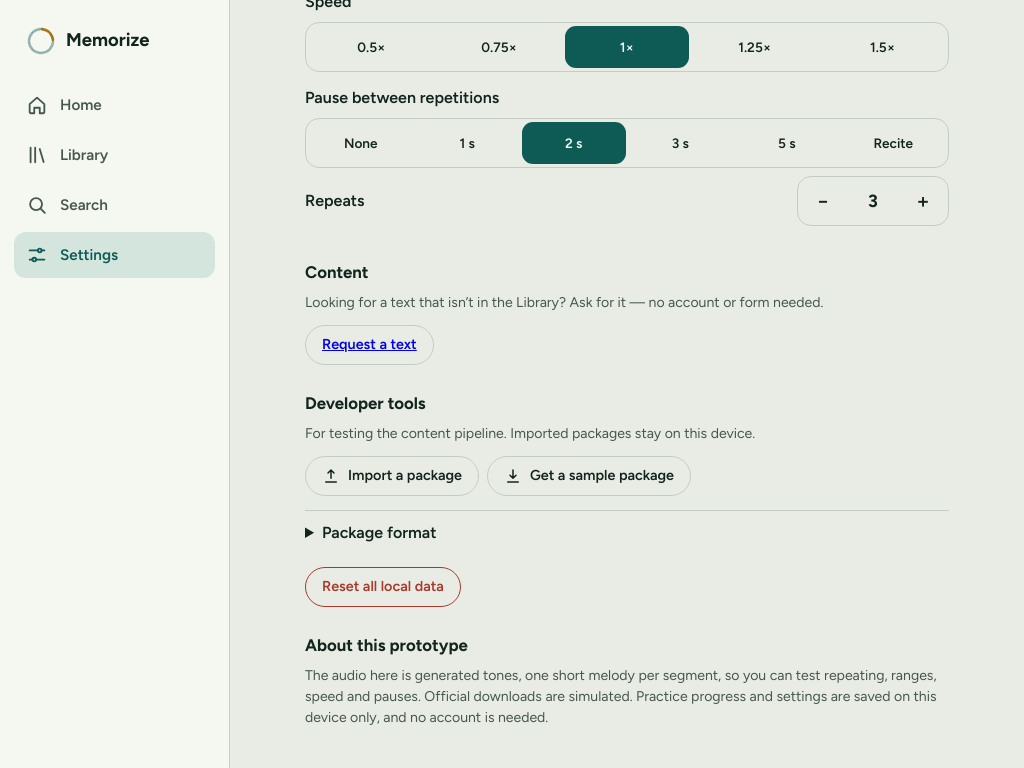
Test: Settings › resets everything after confirmation, and only then
(page scrolled)
Step 1. Click the button "Reset all local data" → (383, 587), box [305, 567, 461, 607]
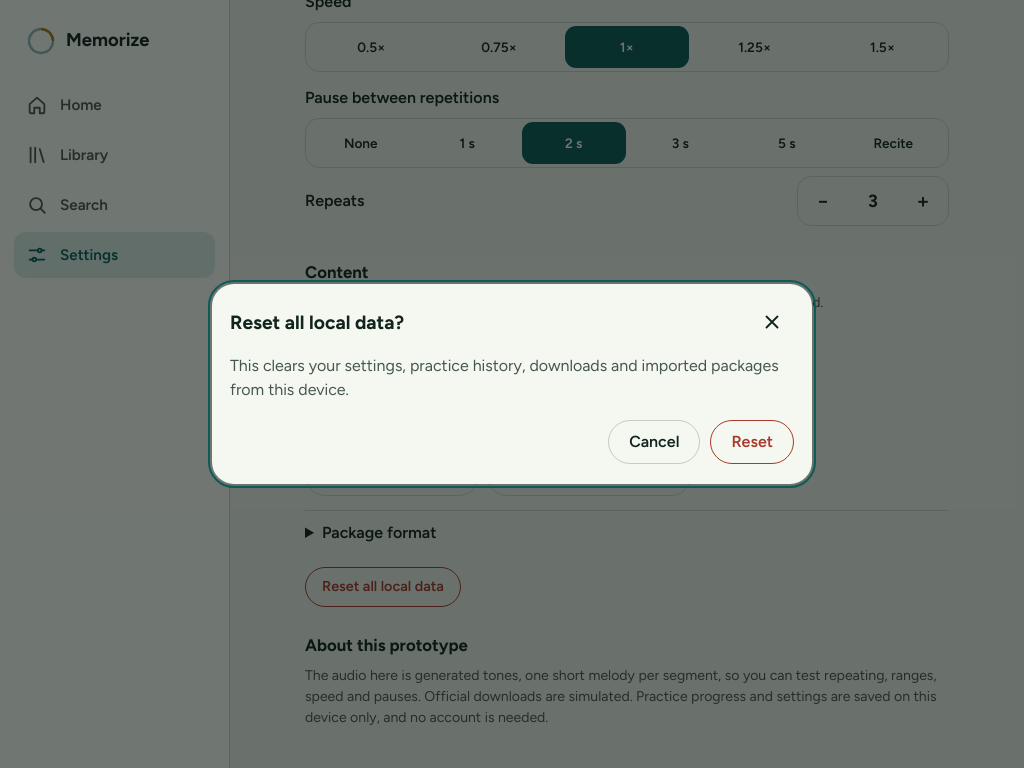
Step 2. Click the button "Cancel" → (654, 442), box [608, 420, 700, 464]
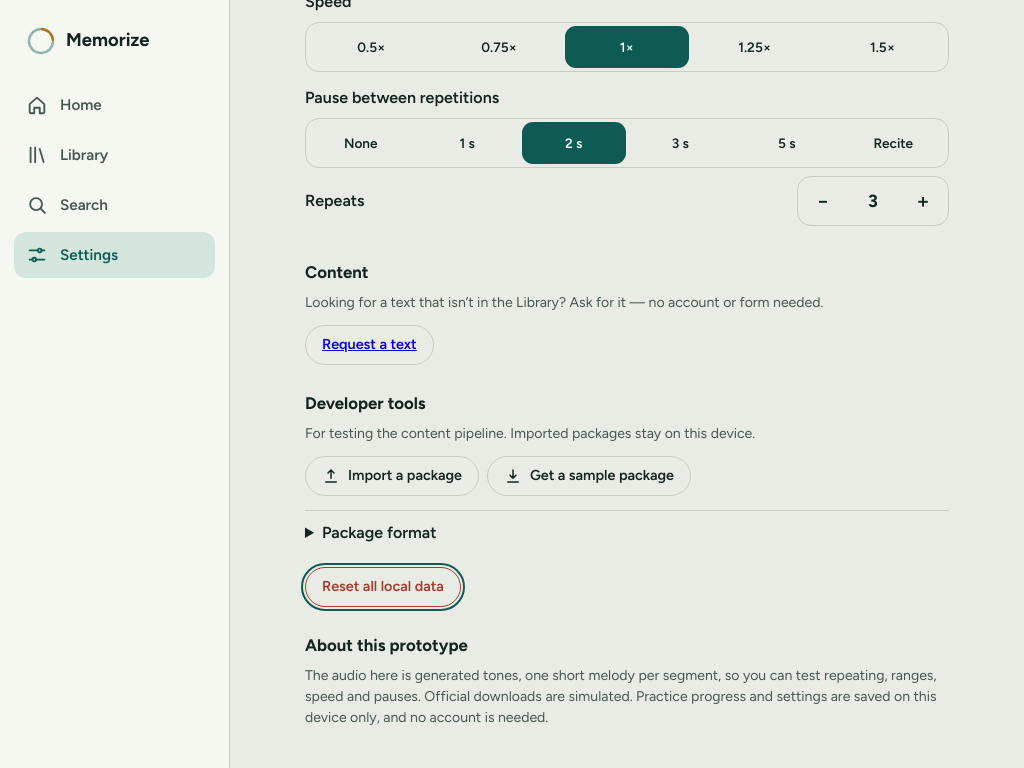
Step 3. Click the button "Reset all local data" → (383, 587), box [305, 567, 461, 607]
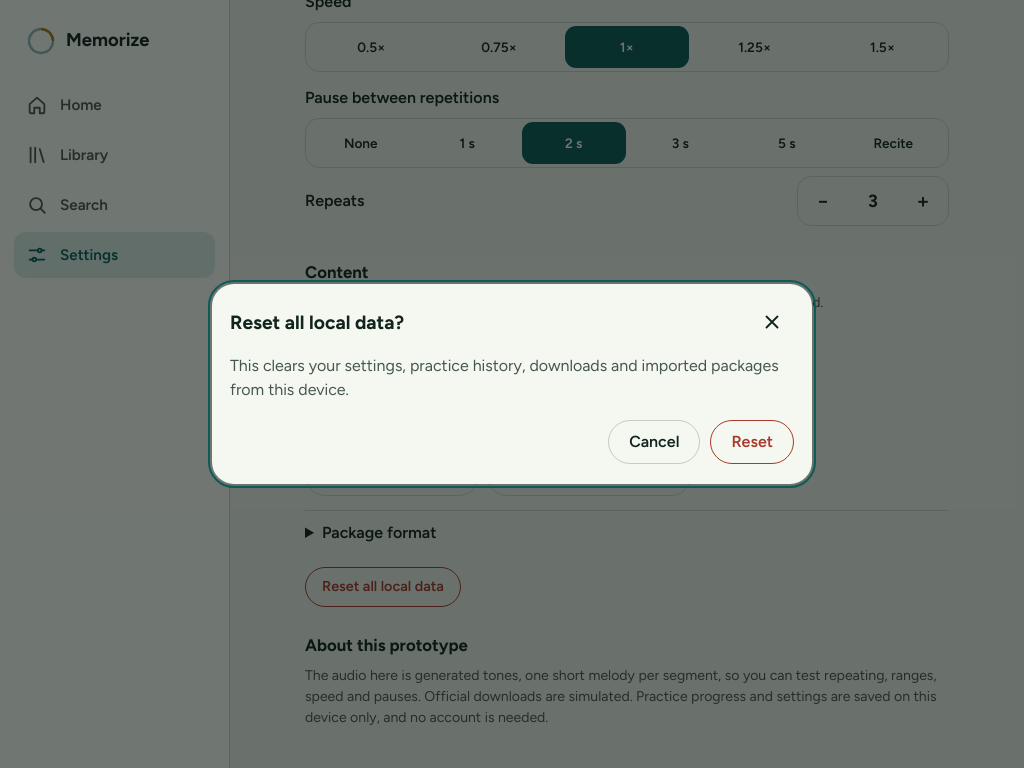
Step 4. Click the button "Reset" → (752, 442), box [710, 420, 794, 464]
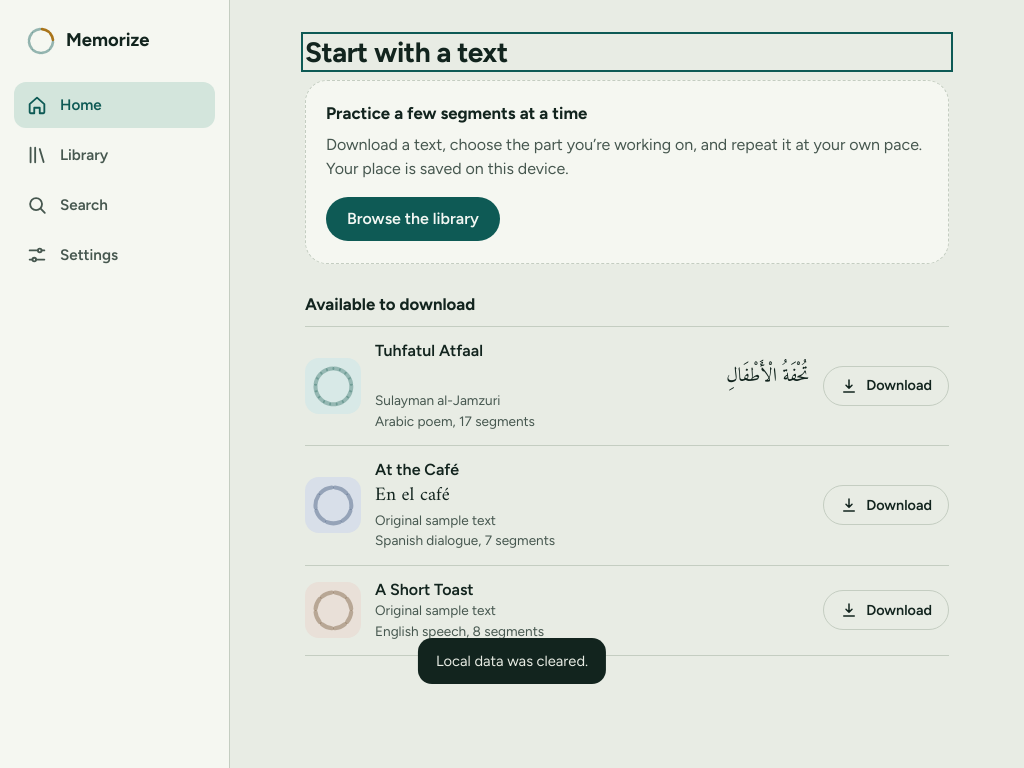
Check: the text "Local data was cleared." is shown, box [436, 650, 588, 672]
